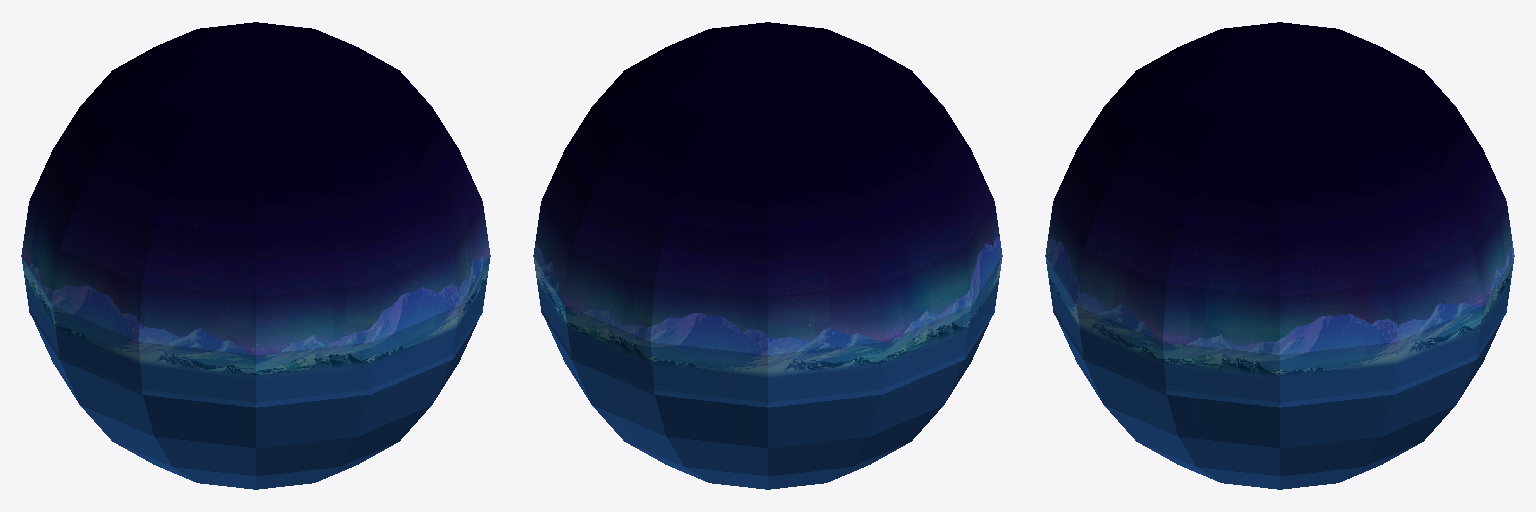
3 views of the same model, side by side, from view 1: azimuth 30°, elevation 25°; view 2: azimuth 150°, elevation 25°; view 3: azimuth 270°, elevation 25° (orthographic).
Visible parts, largest first — view 1: model1_model1_sky.png, pCylinder1_pCylinder1_mount.png; view 2: model1_model1_sky.png, pCylinder1_pCylinder1_mount.png; view 3: model1_model1_sky.png, pCylinder1_pCylinder1_mount.png.
Part boxes in pixels (x1,y1,x2,y2): model1_model1_sky.png: (21, 22, 490, 489); pCylinder1_pCylinder1_mount.png: (29, 308, 482, 407); model1_model1_sky.png: (533, 22, 1002, 489); pCylinder1_pCylinder1_mount.png: (541, 308, 994, 407); model1_model1_sky.png: (1045, 22, 1514, 489); pCylinder1_pCylinder1_mount.png: (1053, 308, 1506, 407).
Size of the model in its own units: 192 by 192 by 192.
Materials: 4 (4 with a texture image).